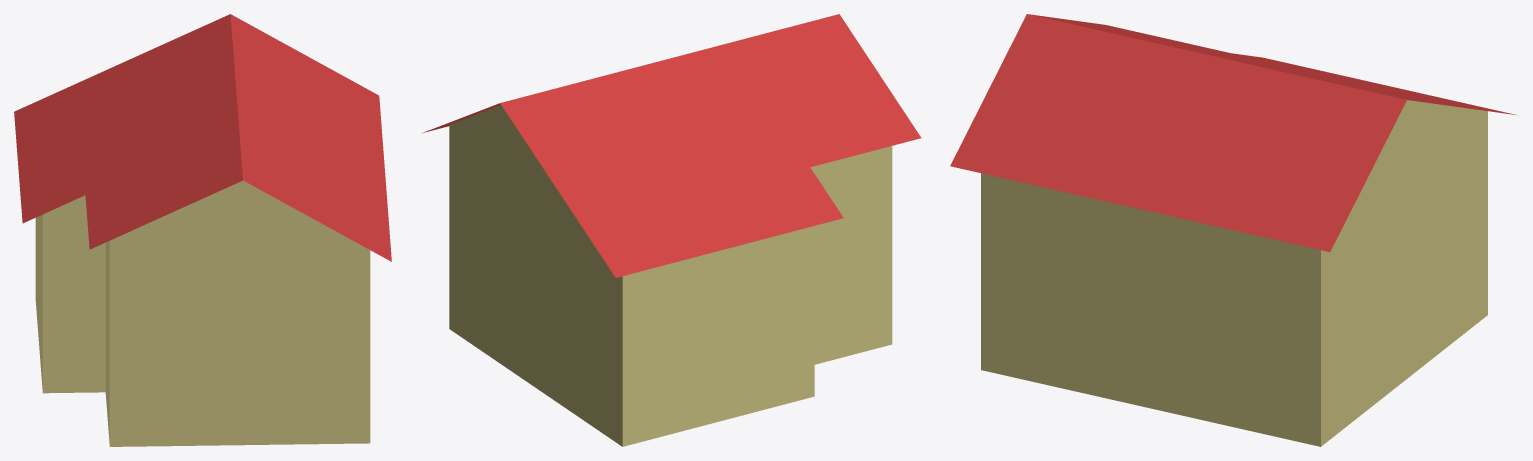
3 renders of one model, left to right at view 1: azimuth 30°, elevation 25°; view 2: azimuth 150°, elevation 25°; view 3: azimuth 270°, elevation 25°, orthographic. The views are drawn at different scales.
Bounding box in the file's own units: 16.27 × 18.69 × 10.85.
